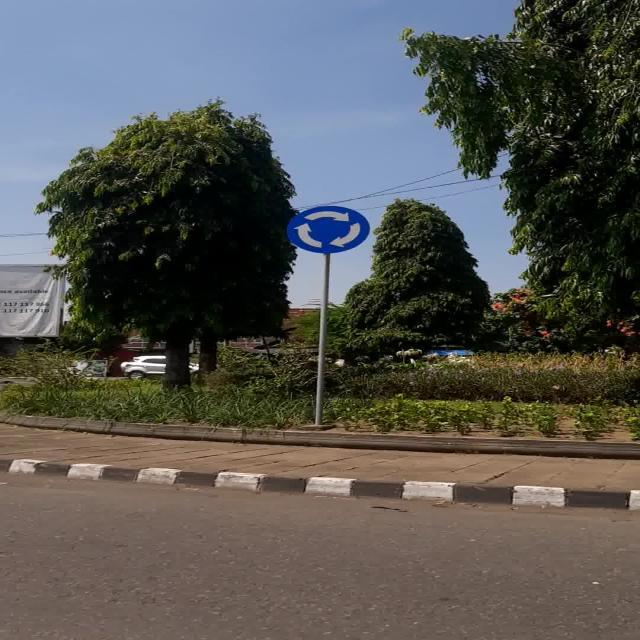Ikuti Bundaran: (286, 206, 372, 254)
